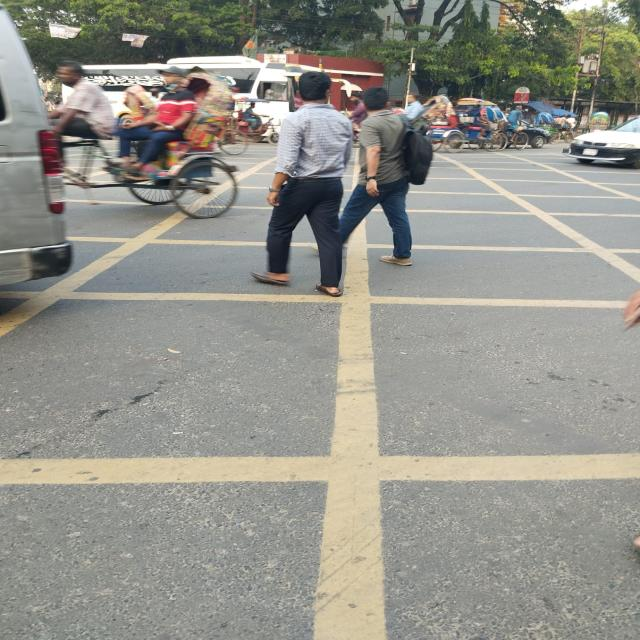person: (252, 71, 346, 300), (340, 86, 430, 272)
